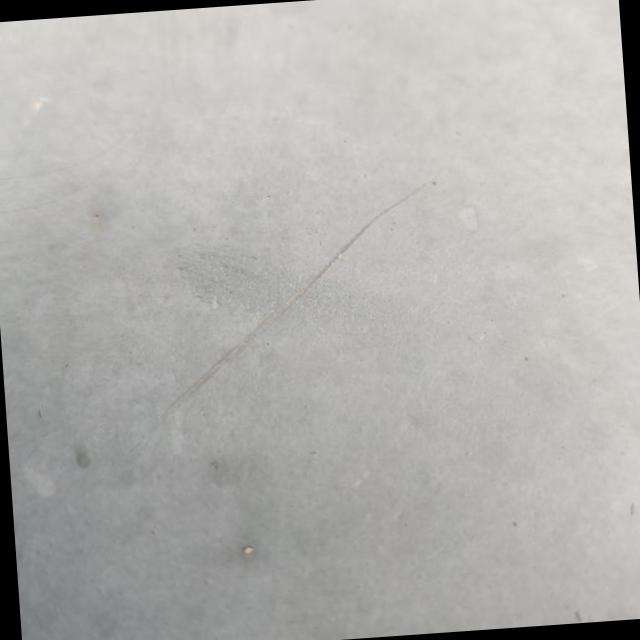Scratch: (241, 202, 401, 348)
